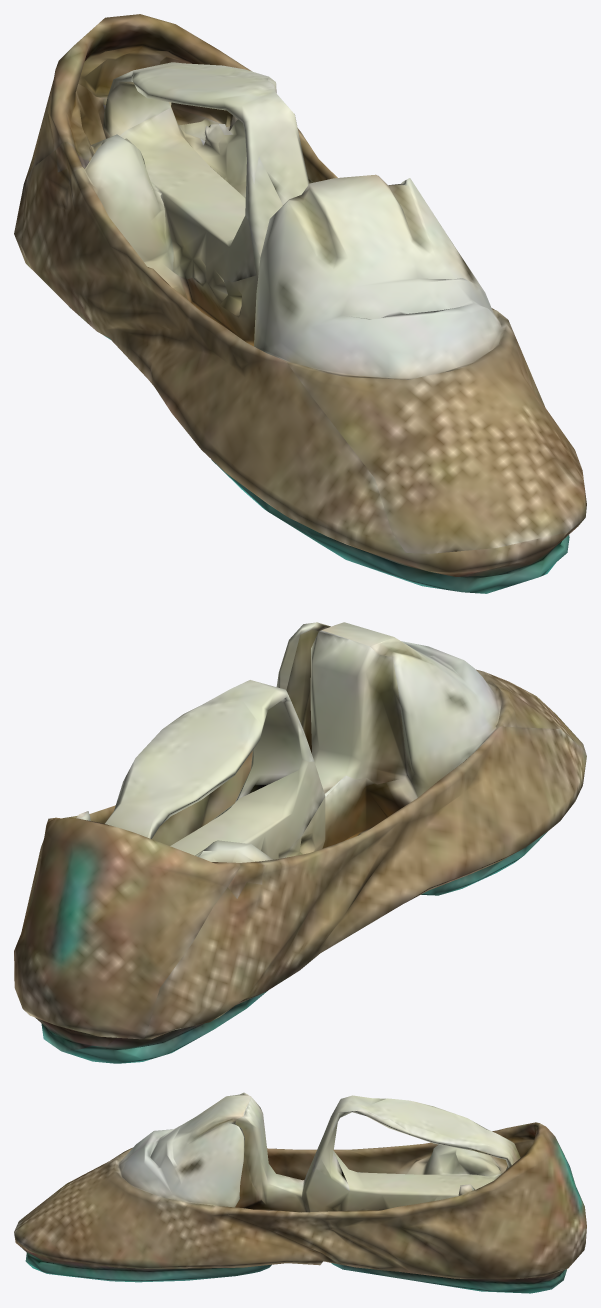
The model's file is gso_wild_copper_tieks_metallic_italian_leather_ballet_flats.glb.
3 views of the same model, one above another, from view 1: azimuth 30°, elevation 25°; view 2: azimuth 150°, elevation 25°; view 3: azimuth 270°, elevation 25° (orthographic). The views are drawn at different scales.
Parts seen in each view (by area): view 1: z-up-to-y-up; view 2: z-up-to-y-up; view 3: z-up-to-y-up.
Part boxes in pixels (bbox=[...]): z-up-to-y-up: bbox=[14, 14, 586, 593]; z-up-to-y-up: bbox=[14, 622, 586, 1063]; z-up-to-y-up: bbox=[14, 1092, 586, 1293].
Bounding box in the file's own units: 0.0855 × 0.0789 × 0.2427.
1 material, 1 textured.
